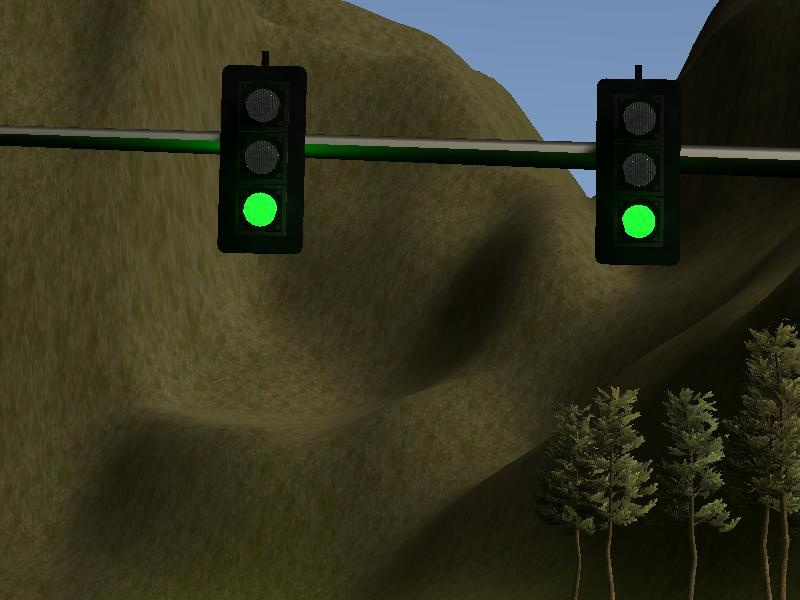Green: (216, 67, 305, 252), (594, 79, 683, 264)
